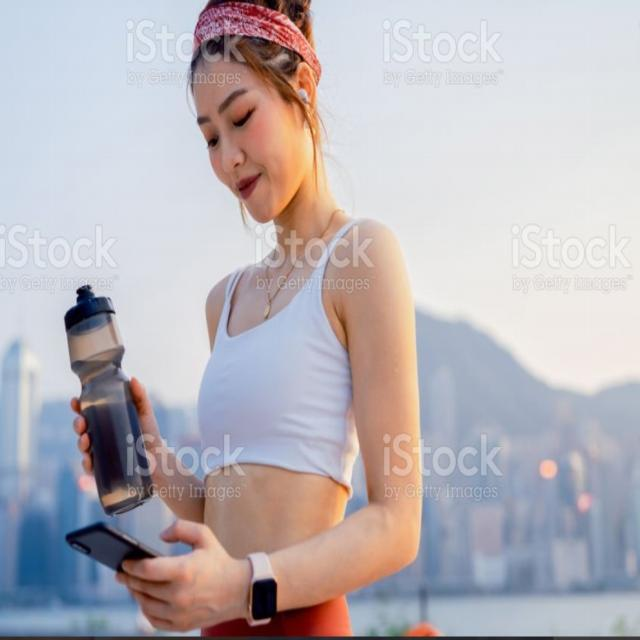Watch: (245, 550, 278, 634)
